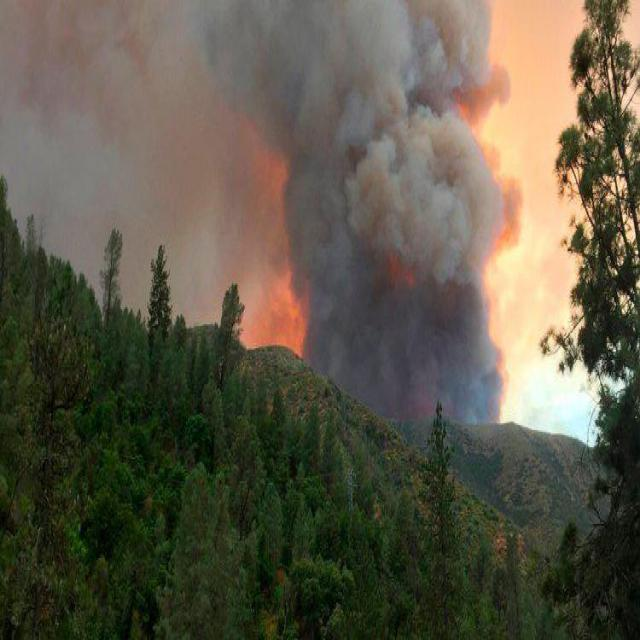Fire: (486, 41, 632, 446), (222, 154, 310, 356)
